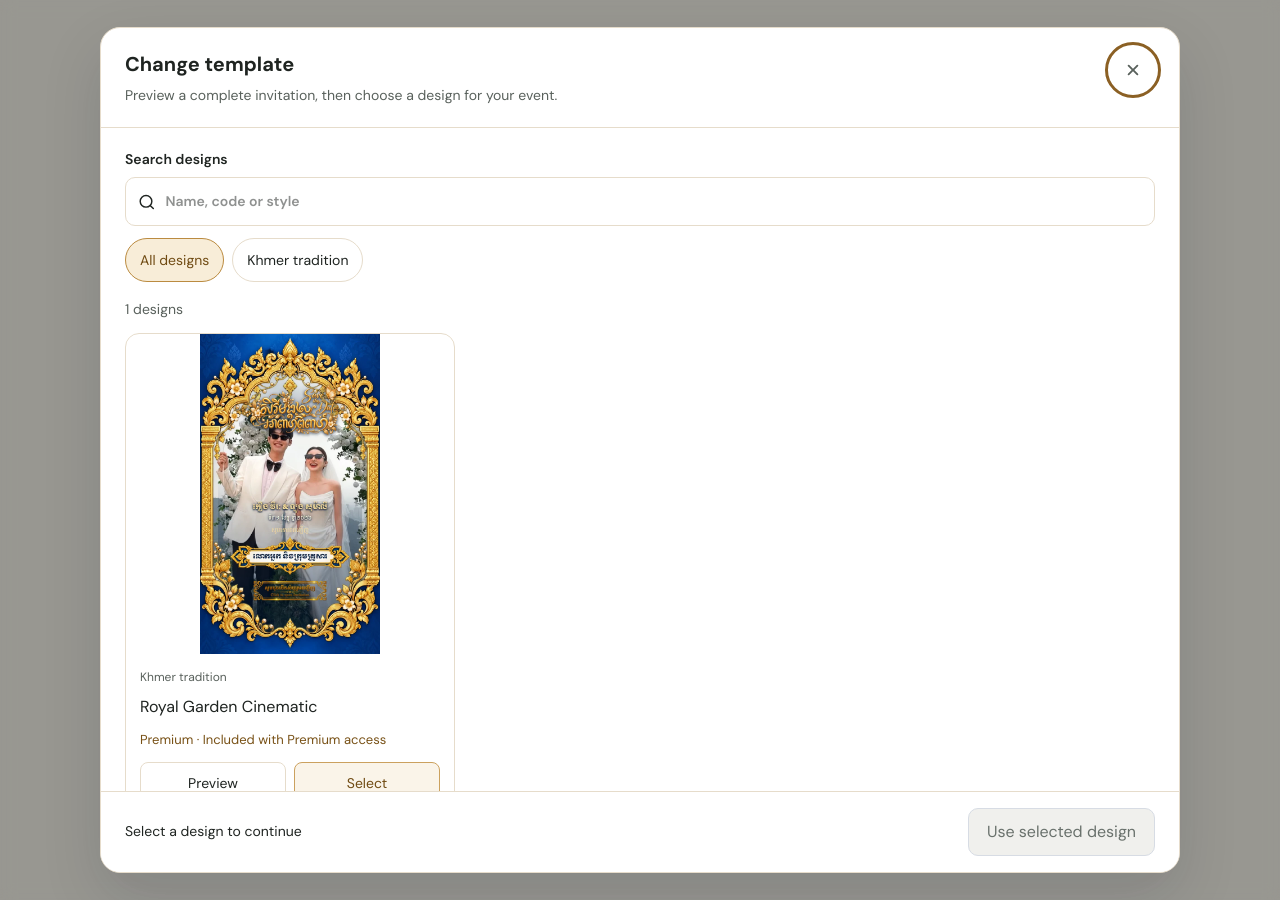
Test: searches by code and filters Khmer tradition without hiding Royal
In the search field: (654, 202) [166,178,1142,225], type "garden-cinematic"
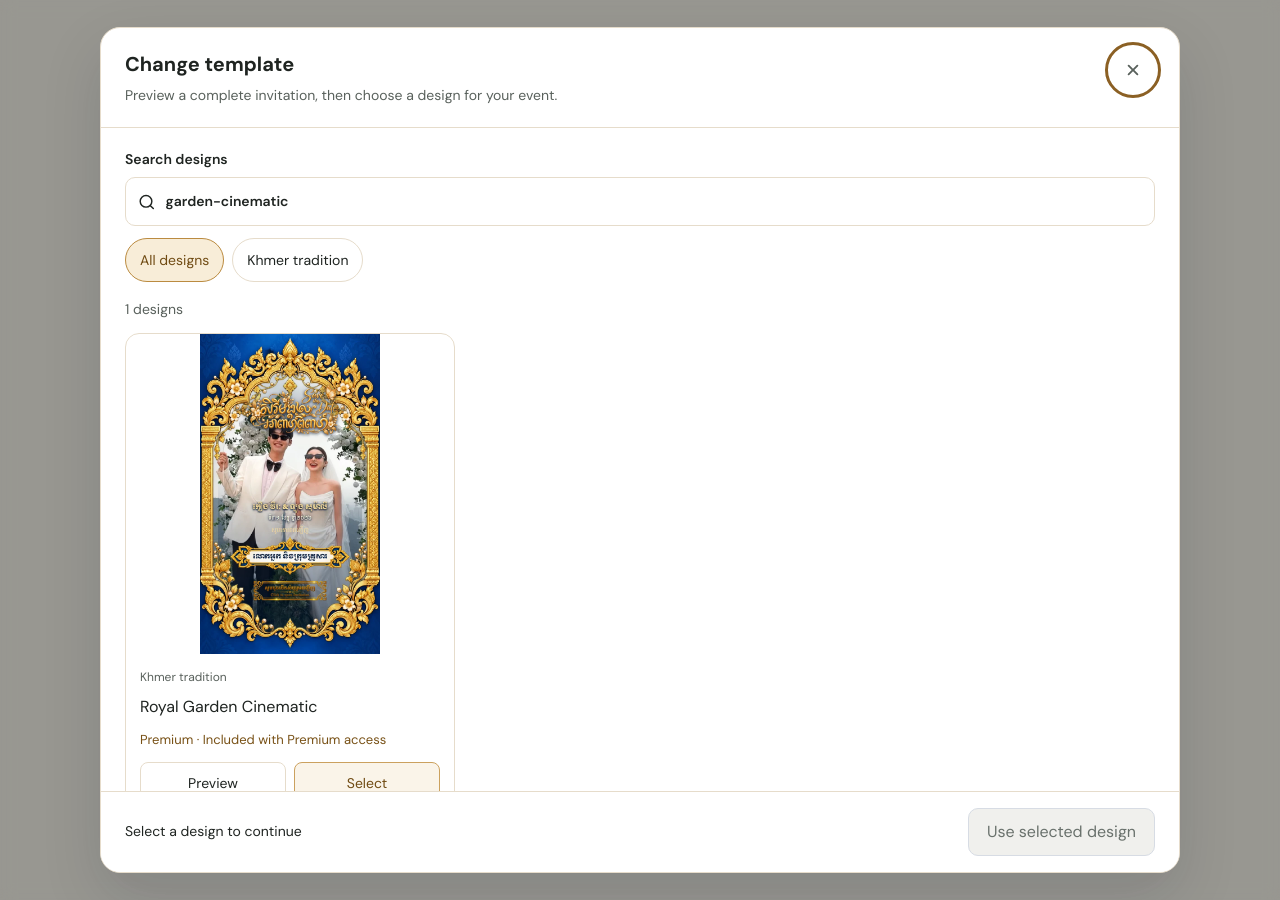
Click the button "Khmer tradition": (298, 260) [232,238,364,282]
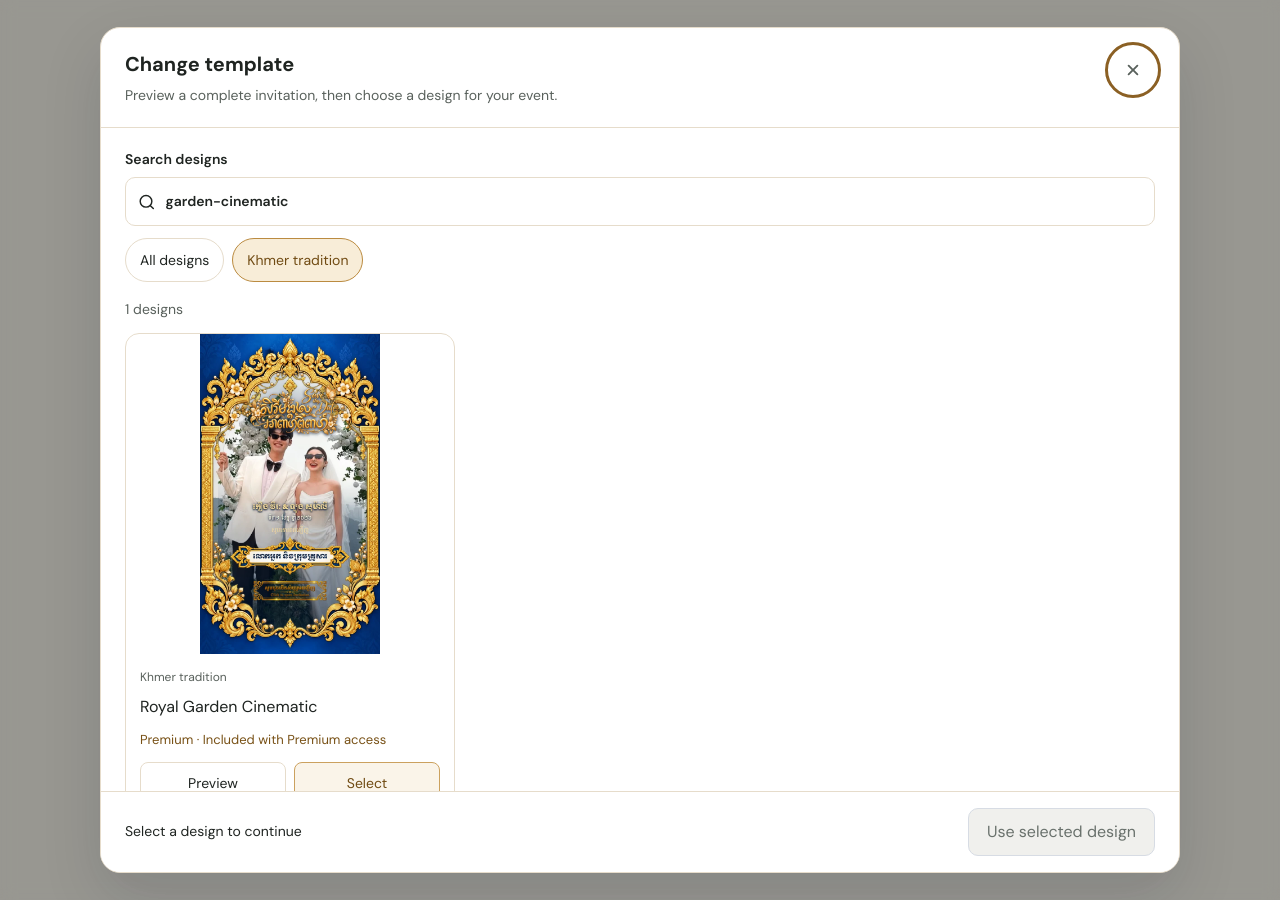
Expected: the heading "Royal Garden Cinematic" is shown, [140,696,317,717]
Replace the text in the search field with "absent": (654, 202) [166,178,1142,225]
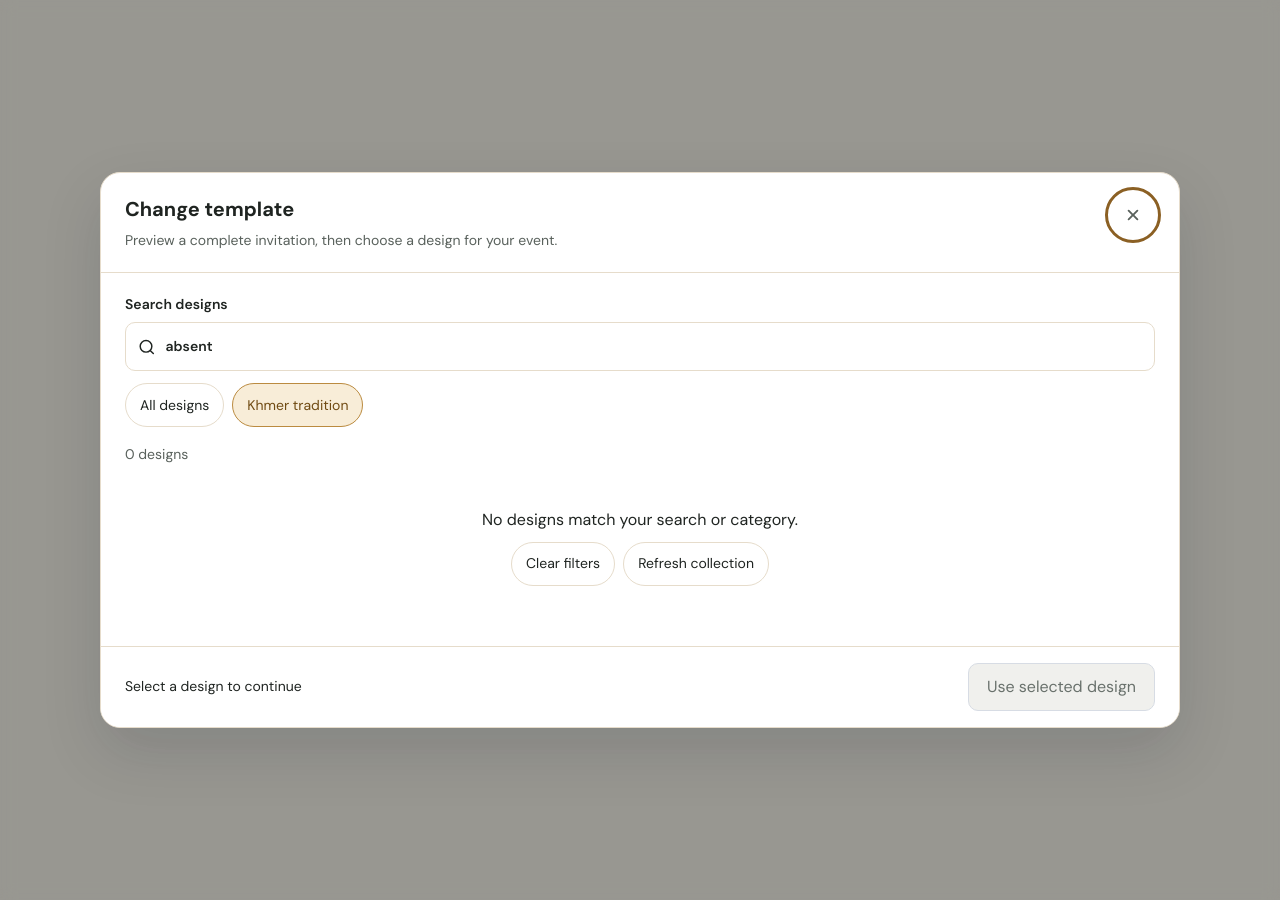
Result: the text "No designs match your search or category." is shown at [482,509,798,530]
